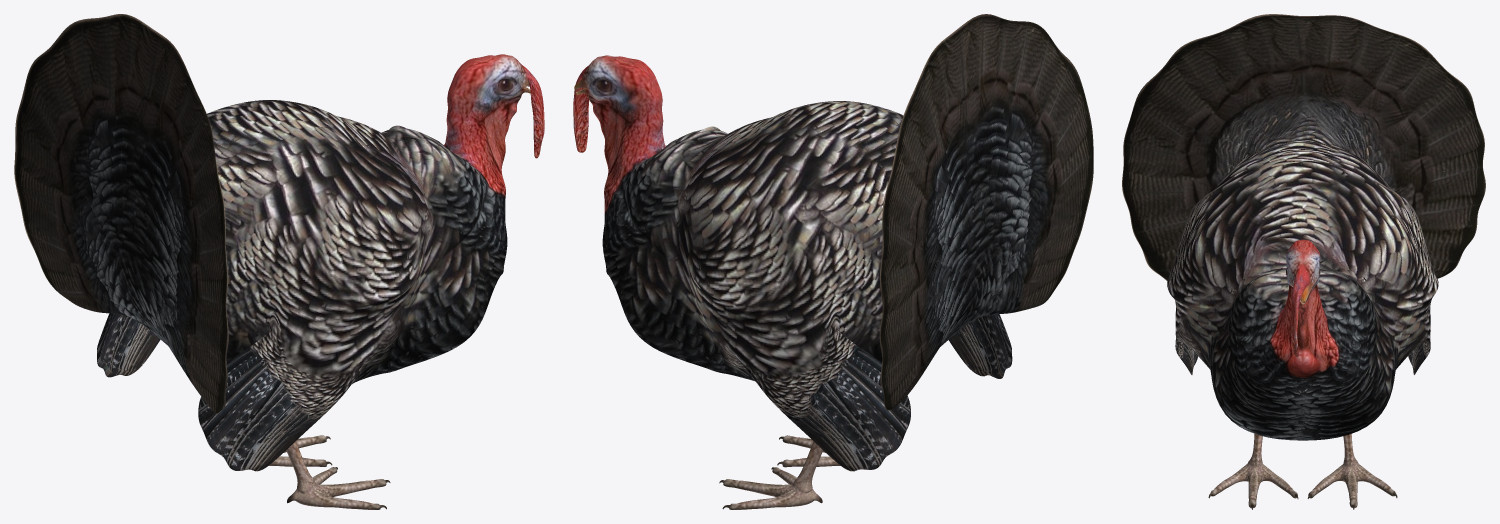
File: Ota kurka.fbx
3 renders of one model, left to right at view 1: azimuth 30°, elevation 25°; view 2: azimuth 150°, elevation 25°; view 3: azimuth 270°, elevation 25°, orthographic. The views are drawn at different scales.
Visible parts, largest first — view 1: 11560_wild_turkey_male_v2_l2; view 2: 11560_wild_turkey_male_v2_l2; view 3: 11560_wild_turkey_male_v2_l2.
Part boxes in pixels (bbox=[...]): 11560_wild_turkey_male_v2_l2: bbox=[14, 14, 544, 509]; 11560_wild_turkey_male_v2_l2: bbox=[573, 14, 1093, 509]; 11560_wild_turkey_male_v2_l2: bbox=[1122, 14, 1485, 509].
Bounding box in the file's own units: 7111 × 7830 × 6284.
1 material, 1 textured.
